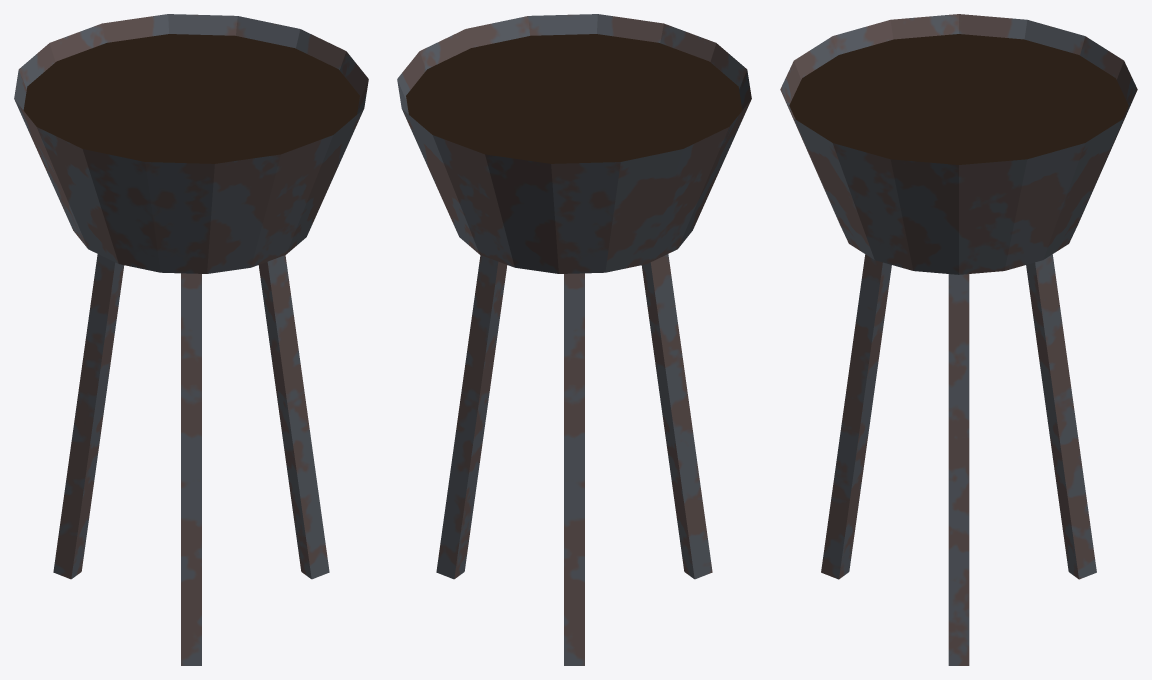
The model's file is SM_Souq_Brazier.fbx.
The picture shows the model from 3 angles, left to right: view 1: azimuth 30°, elevation 25°; view 2: azimuth 150°, elevation 25°; view 3: azimuth 270°, elevation 25°; orthographic projection.
Visible parts, largest first — view 1: SM_Souq_Brazier; view 2: SM_Souq_Brazier; view 3: SM_Souq_Brazier.
Part boxes in pixels (box(x1,y1,x2,y2)): SM_Souq_Brazier: box(14, 14, 368, 665); SM_Souq_Brazier: box(397, 14, 751, 665); SM_Souq_Brazier: box(780, 14, 1137, 665).
Bounding box in the file's own units: 60 × 95.24 × 60.
Materials: 2 (2 with a texture image).
